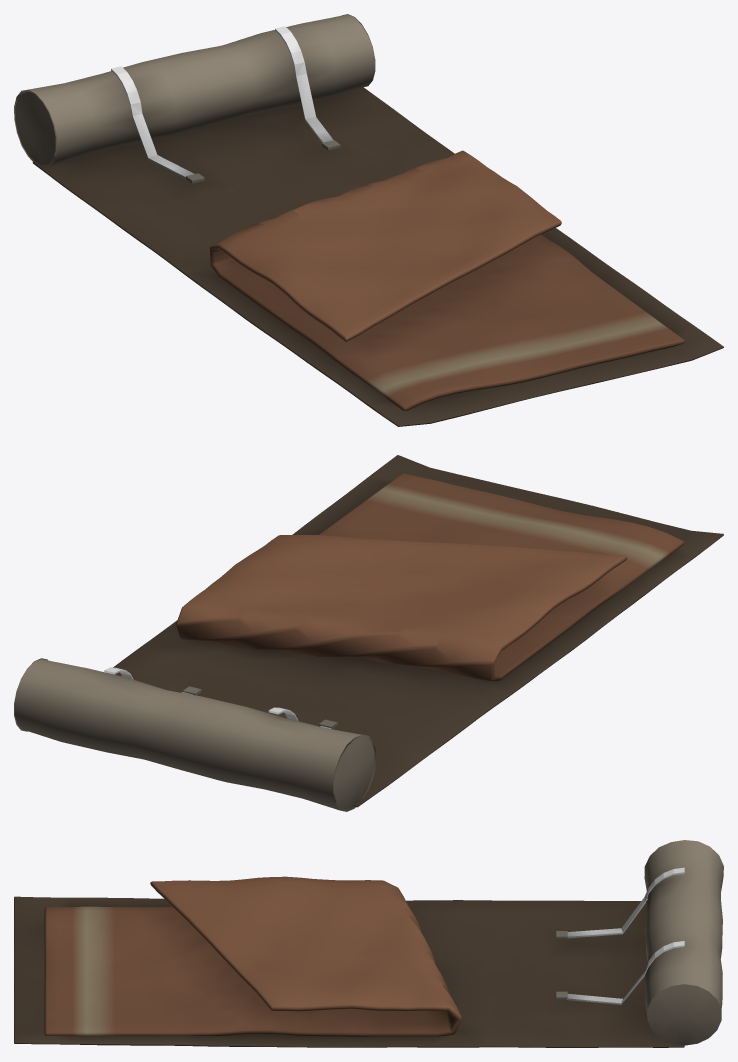
File: bedroll_open.glb
The picture shows the model from 3 angles, top to bottom: view 1: azimuth 30°, elevation 25°; view 2: azimuth 150°, elevation 25°; view 3: azimuth 270°, elevation 25°; orthographic projection. The views are drawn at different scales.
Visible parts, largest first — view 1: bedroll_open_wool, bedroll_open_cloth, bedroll_open; view 2: bedroll_open_wool, bedroll_open_cloth, bedroll_open; view 3: bedroll_open_wool, bedroll_open_cloth, bedroll_open.
Part boxes in pixels (x1,y1,x2,y2): bedroll_open_wool: [14, 14, 684, 410]; bedroll_open_cloth: [32, 87, 723, 426]; bedroll_open: [15, 14, 375, 183]; bedroll_open_wool: [14, 473, 684, 811]; bedroll_open_cloth: [113, 455, 723, 807]; bedroll_open: [14, 658, 374, 809]; bedroll_open_wool: [44, 840, 723, 1036]; bedroll_open_cloth: [14, 896, 684, 1047]; bedroll_open: [556, 867, 721, 1045].
Size of the model in its own units: 0.9007 by 0.2041 by 1.85.
